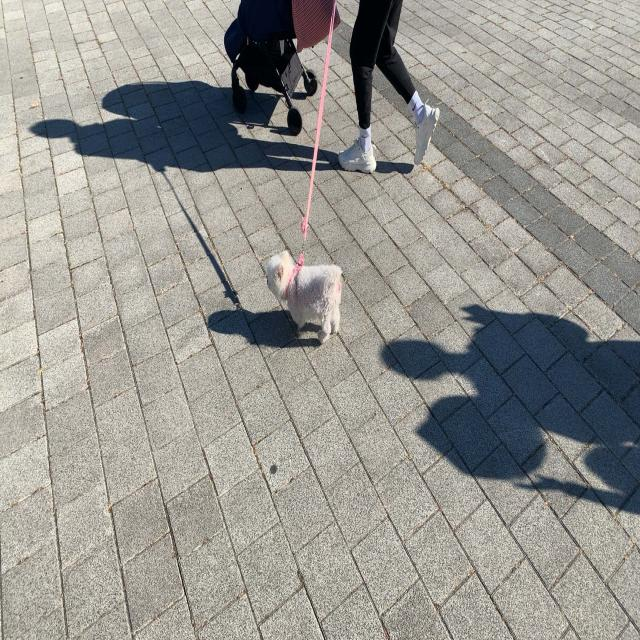Dog: (266, 248, 344, 346)
